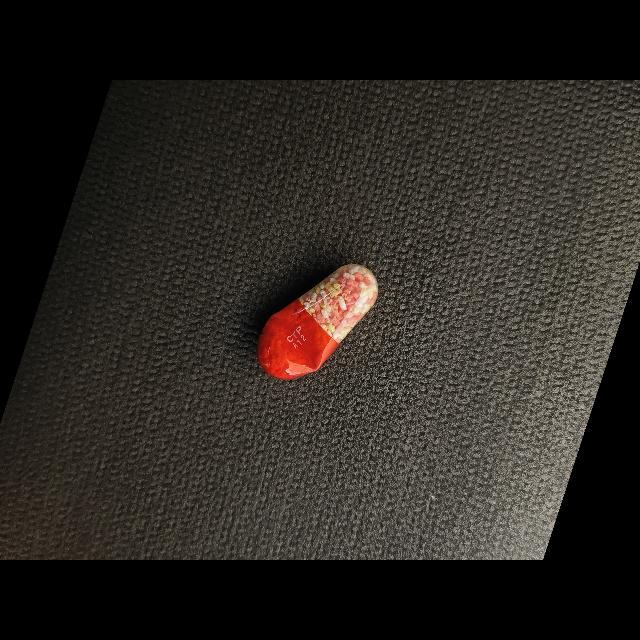Defective Capsule: (257, 264, 378, 380)
